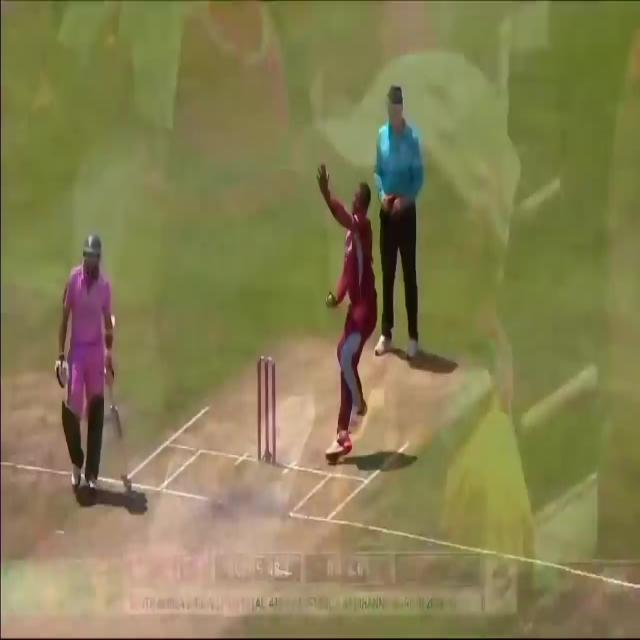Ball: (53, 235, 118, 492)
Umpire: (370, 68, 429, 400)
